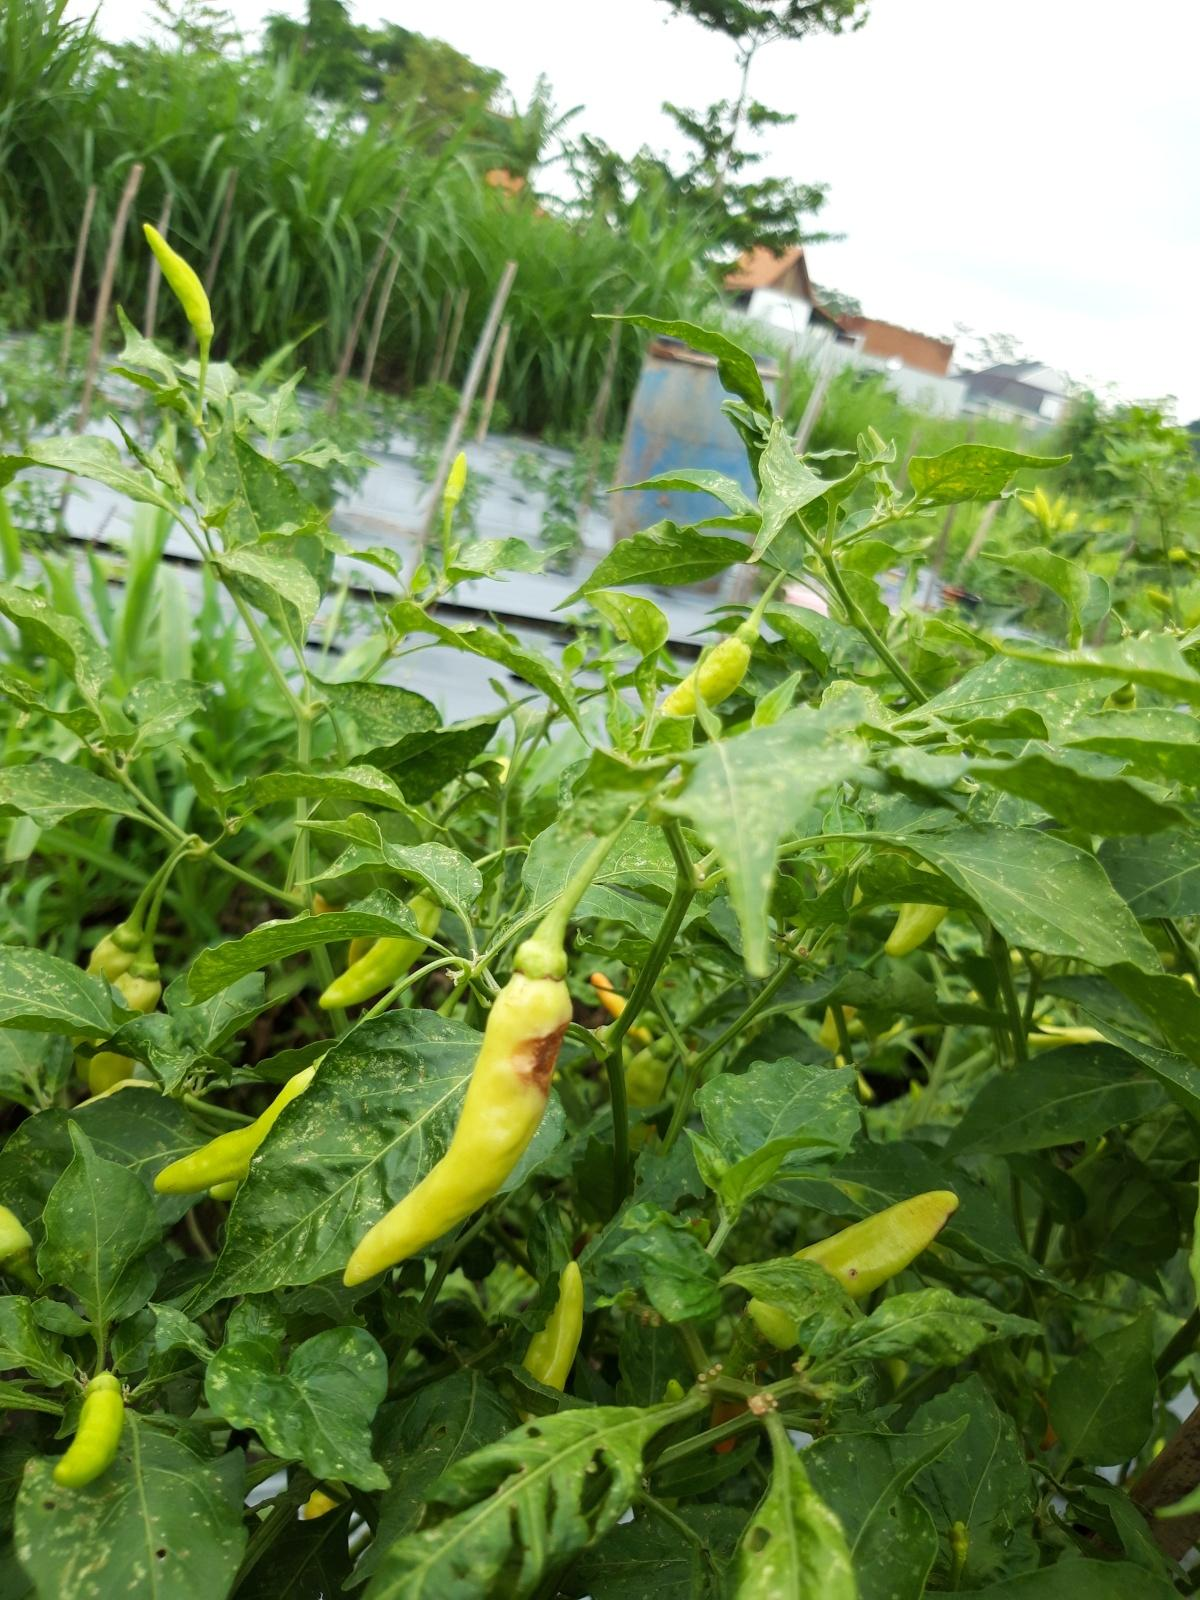cabai_normal: (739, 1188, 961, 1362), (153, 1051, 332, 1199), (316, 887, 442, 1009), (658, 622, 760, 718), (142, 223, 216, 348), (53, 1374, 121, 1490)
lalat_buah: (343, 942, 574, 1288)
